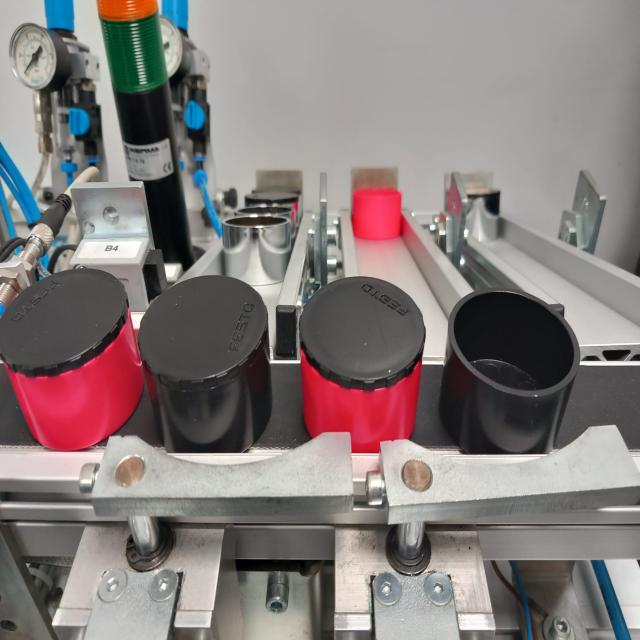NoLid: (446, 288, 578, 444), (346, 177, 426, 254), (222, 209, 292, 293)
Workpiece: (0, 263, 143, 452), (296, 279, 435, 460), (148, 264, 274, 457), (461, 184, 506, 252), (235, 183, 310, 220)
